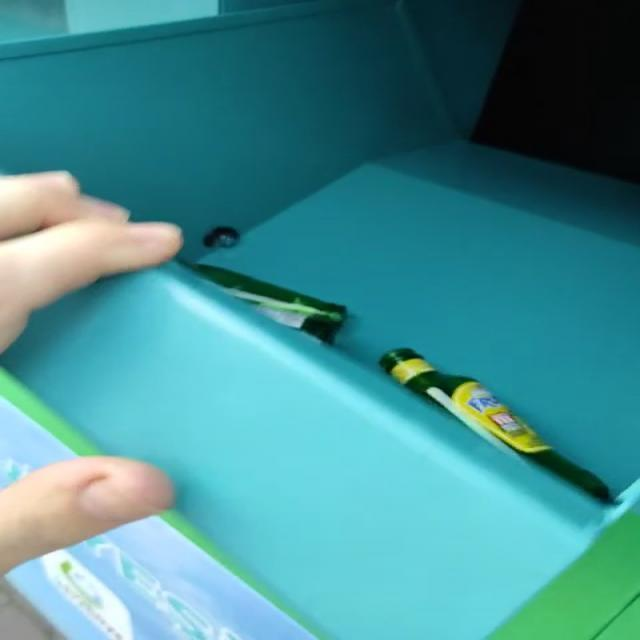Glass: (380, 348, 615, 504), (184, 264, 347, 344)
